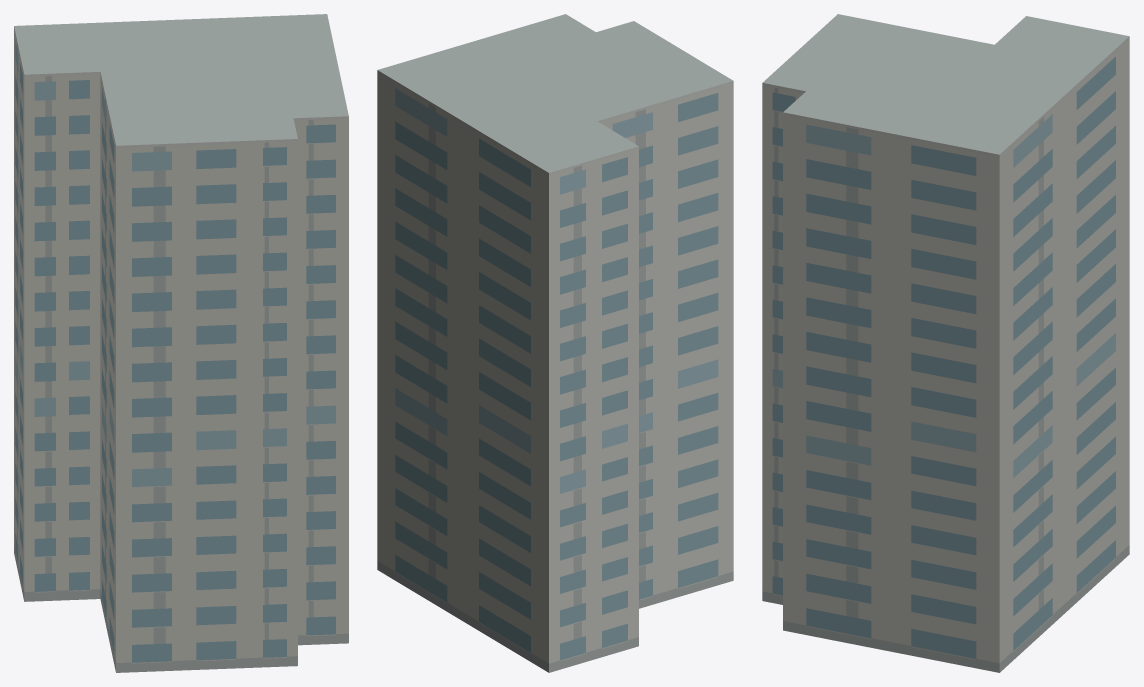
The model's file is residential-4aae92c2-0c51-41b7-8346-4ad70c0fdc99.glb.
The picture shows the model from 3 angles, left to right: view 1: azimuth 30°, elevation 25°; view 2: azimuth 150°, elevation 25°; view 3: azimuth 270°, elevation 25°; orthographic projection. The views are drawn at different scales.
Visible parts, largest first — view 1: residential-4aae92c2-0c51-41b7-8346-4ad70c0fdc99.tmp; view 2: residential-4aae92c2-0c51-41b7-8346-4ad70c0fdc99.tmp; view 3: residential-4aae92c2-0c51-41b7-8346-4ad70c0fdc99.tmp.
Boxes of the visible parts, x1=… form: residential-4aae92c2-0c51-41b7-8346-4ad70c0fdc99.tmp: x1=14, y1=14, x2=348, y2=672; residential-4aae92c2-0c51-41b7-8346-4ad70c0fdc99.tmp: x1=377, y1=14, x2=733, y2=672; residential-4aae92c2-0c51-41b7-8346-4ad70c0fdc99.tmp: x1=762, y1=14, x2=1129, y2=672.
Size of the model in its own units: 30.88 by 53 by 34.04.
